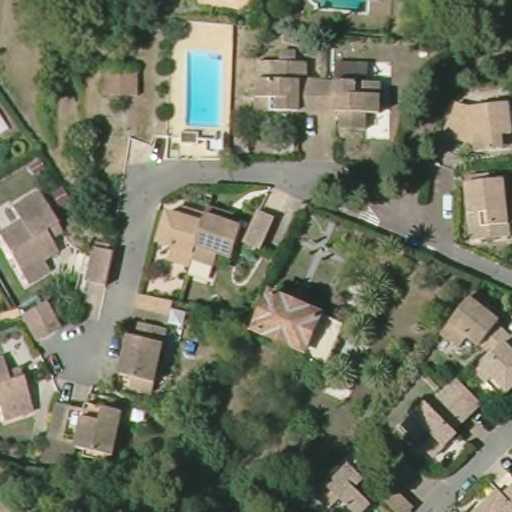pool: (179, 41, 233, 133), (302, 1, 371, 16)
